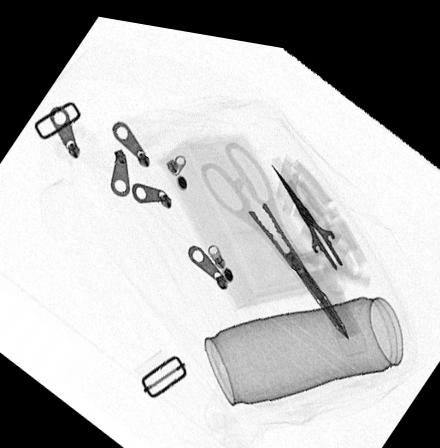Scissors: (198, 132, 350, 329), (269, 155, 371, 288)
